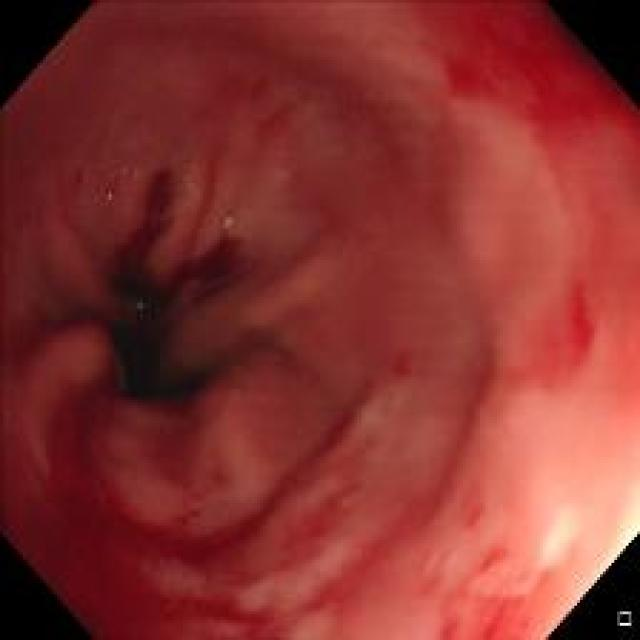blood: (4, 456, 298, 636), (294, 416, 355, 480)
contrast: (30, 148, 291, 456)
saturation: (525, 440, 636, 570)
specularity: (170, 159, 199, 199), (128, 292, 152, 328), (219, 209, 244, 240)
